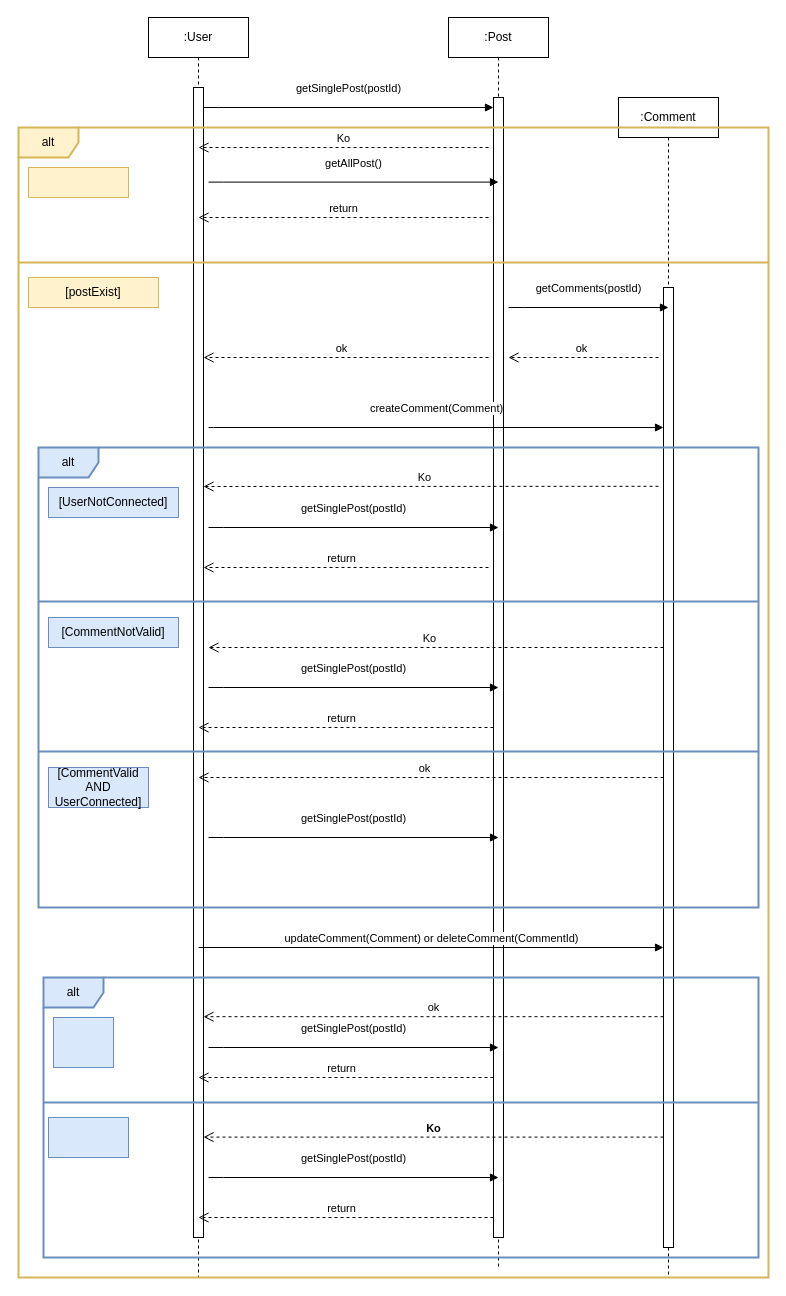
The diagram is 786 pixels wide and 1296 high, and some of its shapes have lost their labels. Here are the shapes that lost their labels. From the top down, the centre of each, then its label:
(78,182): [postNonExistent]
(83,1042): [IsAuthor] OR [IsAdmin]
(88,1137): [IsNotGranted]
